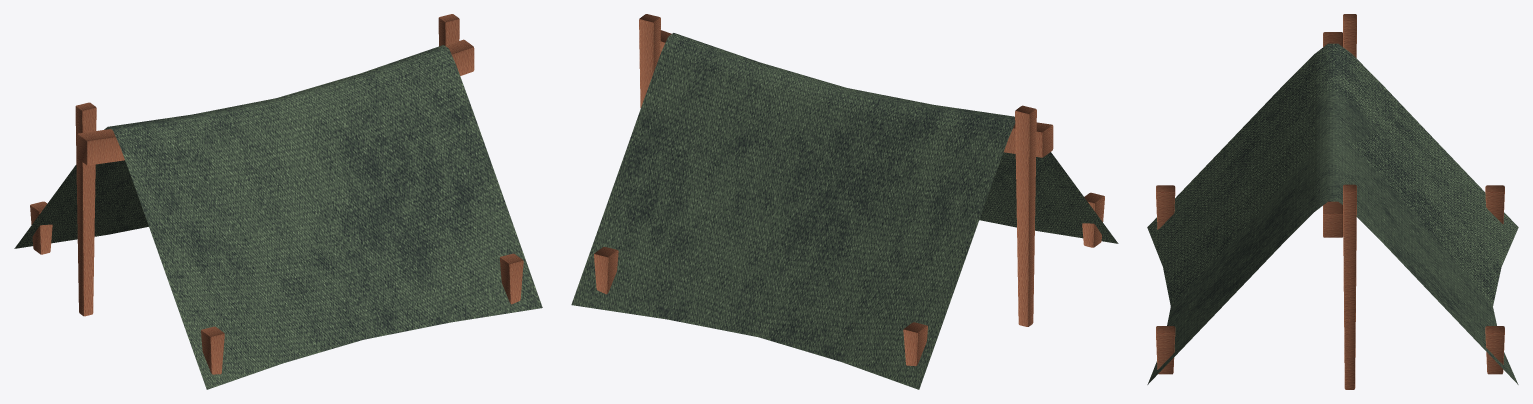
The model's file is cadir.obj.
3 views of the same model, side by side, from view 1: azimuth 30°, elevation 25°; view 2: azimuth 150°, elevation 25°; view 3: azimuth 270°, elevation 25° (orthographic). The views are drawn at different scales.
Parts seen in each view (by area): view 1: Plane001, Box002, Box001, Box006, Box007, Box005, Box003; view 2: Plane001, Box002, Box003, Box001, Box004, Box005, Box007; view 3: Plane001, Box003, Box001, Box004, Box006, Box007, Box005, Box002.
Part boxes in pixels (box(x1,y1,x2,y2)): Plane001: box(14, 45, 542, 389); Box002: box(75, 102, 96, 316); Box001: box(77, 39, 474, 165); Box006: box(500, 253, 523, 304); Box007: box(201, 326, 224, 374); Box005: box(30, 201, 52, 254); Box003: box(438, 14, 459, 46); Plane001: box(571, 33, 1118, 389); Box002: box(1015, 105, 1036, 326); Box003: box(639, 14, 660, 108); Box001: box(660, 30, 1053, 157); Box004: box(594, 247, 618, 294); Box005: box(903, 322, 927, 366); Box007: box(1082, 192, 1104, 247); Plane001: box(1147, 43, 1518, 384); Box003: box(1343, 184, 1356, 389); Box001: box(1323, 32, 1343, 237); Box004: box(1485, 326, 1504, 374); Box006: box(1156, 326, 1175, 374); Box007: box(1156, 185, 1175, 229); Box005: box(1485, 185, 1504, 223); Box002: box(1343, 14, 1356, 57).
Size of the model in its own units: 160 by 83.1 by 138.
